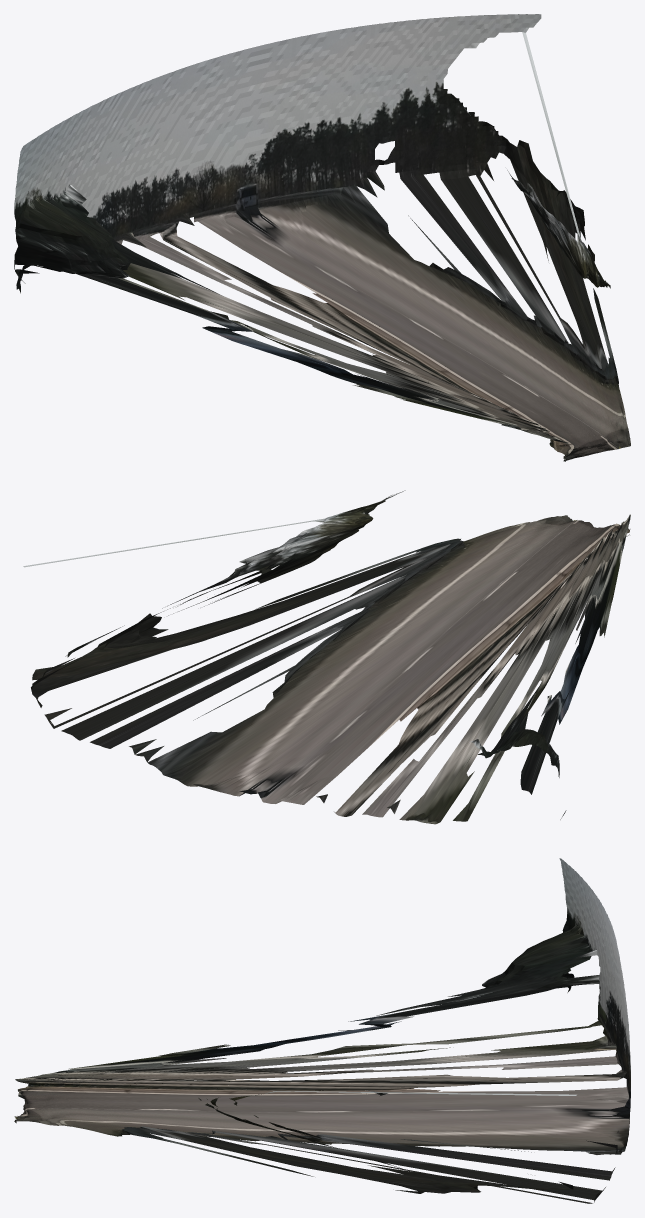
3 views of the same model, one above another, from view 1: azimuth 30°, elevation 25°; view 2: azimuth 150°, elevation 25°; view 3: azimuth 270°, elevation 25° (orthographic). The views are drawn at different scales.
Visible parts, largest first — view 1: defaultobject; view 2: defaultobject; view 3: defaultobject.
Boxes of the visible parts, box(x1,y1,x2,y2) form: defaultobject: box(14, 14, 630, 461); defaultobject: box(23, 490, 630, 824); defaultobject: box(14, 858, 630, 1203).
Bounding box in the file's own units: 39.31 × 12.45 × 44.6.
1 material, 1 textured.
